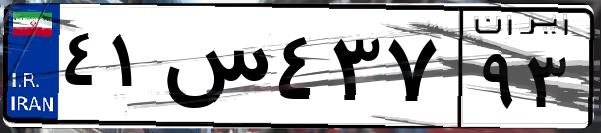1: (110, 28, 158, 98)
3: (330, 28, 385, 110), (525, 38, 570, 115)
4: (270, 28, 330, 110), (57, 26, 110, 100)
7: (385, 28, 445, 110)
9: (475, 38, 525, 113)
س: (158, 20, 270, 120)
